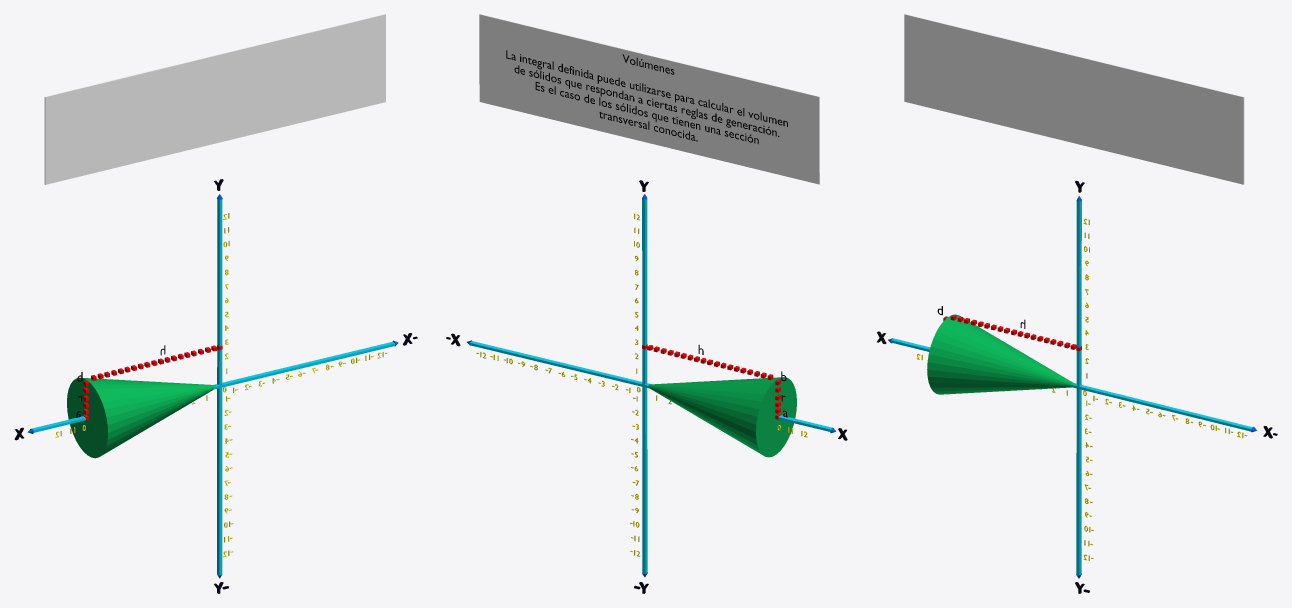
File: int-def-volumenes.fbx
3 renders of one model, left to right at view 1: azimuth 30°, elevation 25°; view 2: azimuth 150°, elevation 25°; view 3: azimuth 330°, elevation 25°, orthographic.
Visible parts, largest first — view 1: Cubo.003, Cone.004, Cubo.001, Cubo; view 2: Cubo.003, Cone.004, Text.003, Cubo.001, Cubo; view 3: Cubo.003, Cone.004, Cubo.001, Cubo.
Boxes of the visible parts, x1,y1,x2,y2 form: Cubo.003: (44, 14, 385, 184); Cone.004: (67, 377, 215, 458); Cubo.001: (217, 199, 222, 575); Cubo: (30, 341, 395, 432); Cubo.003: (479, 14, 819, 184); Cone.004: (648, 377, 796, 457); Text.003: (506, 50, 787, 144); Cubo.001: (642, 199, 647, 573); Cubo: (469, 341, 831, 431); Cubo.003: (904, 14, 1244, 184); Cone.004: (927, 314, 1075, 394); Cubo.001: (1076, 201, 1081, 575); Cubo: (891, 338, 1252, 431).
Bounding box in the file's own units: 599 × 769 × 107.
